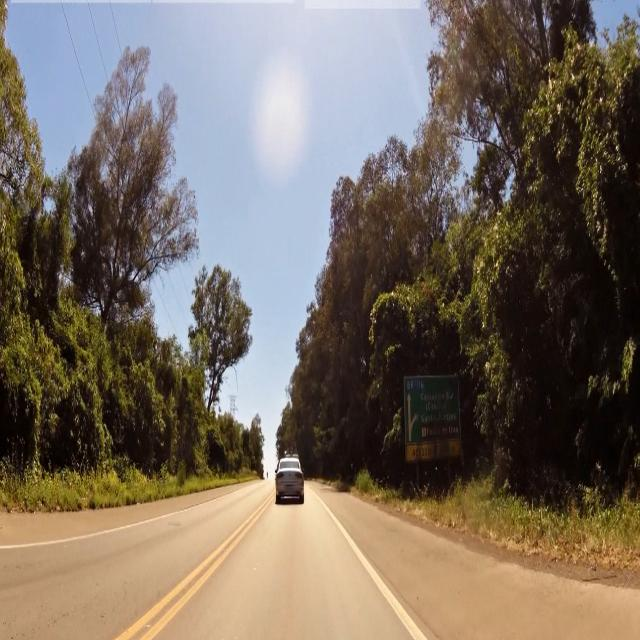I-4: (405, 377, 458, 423)
